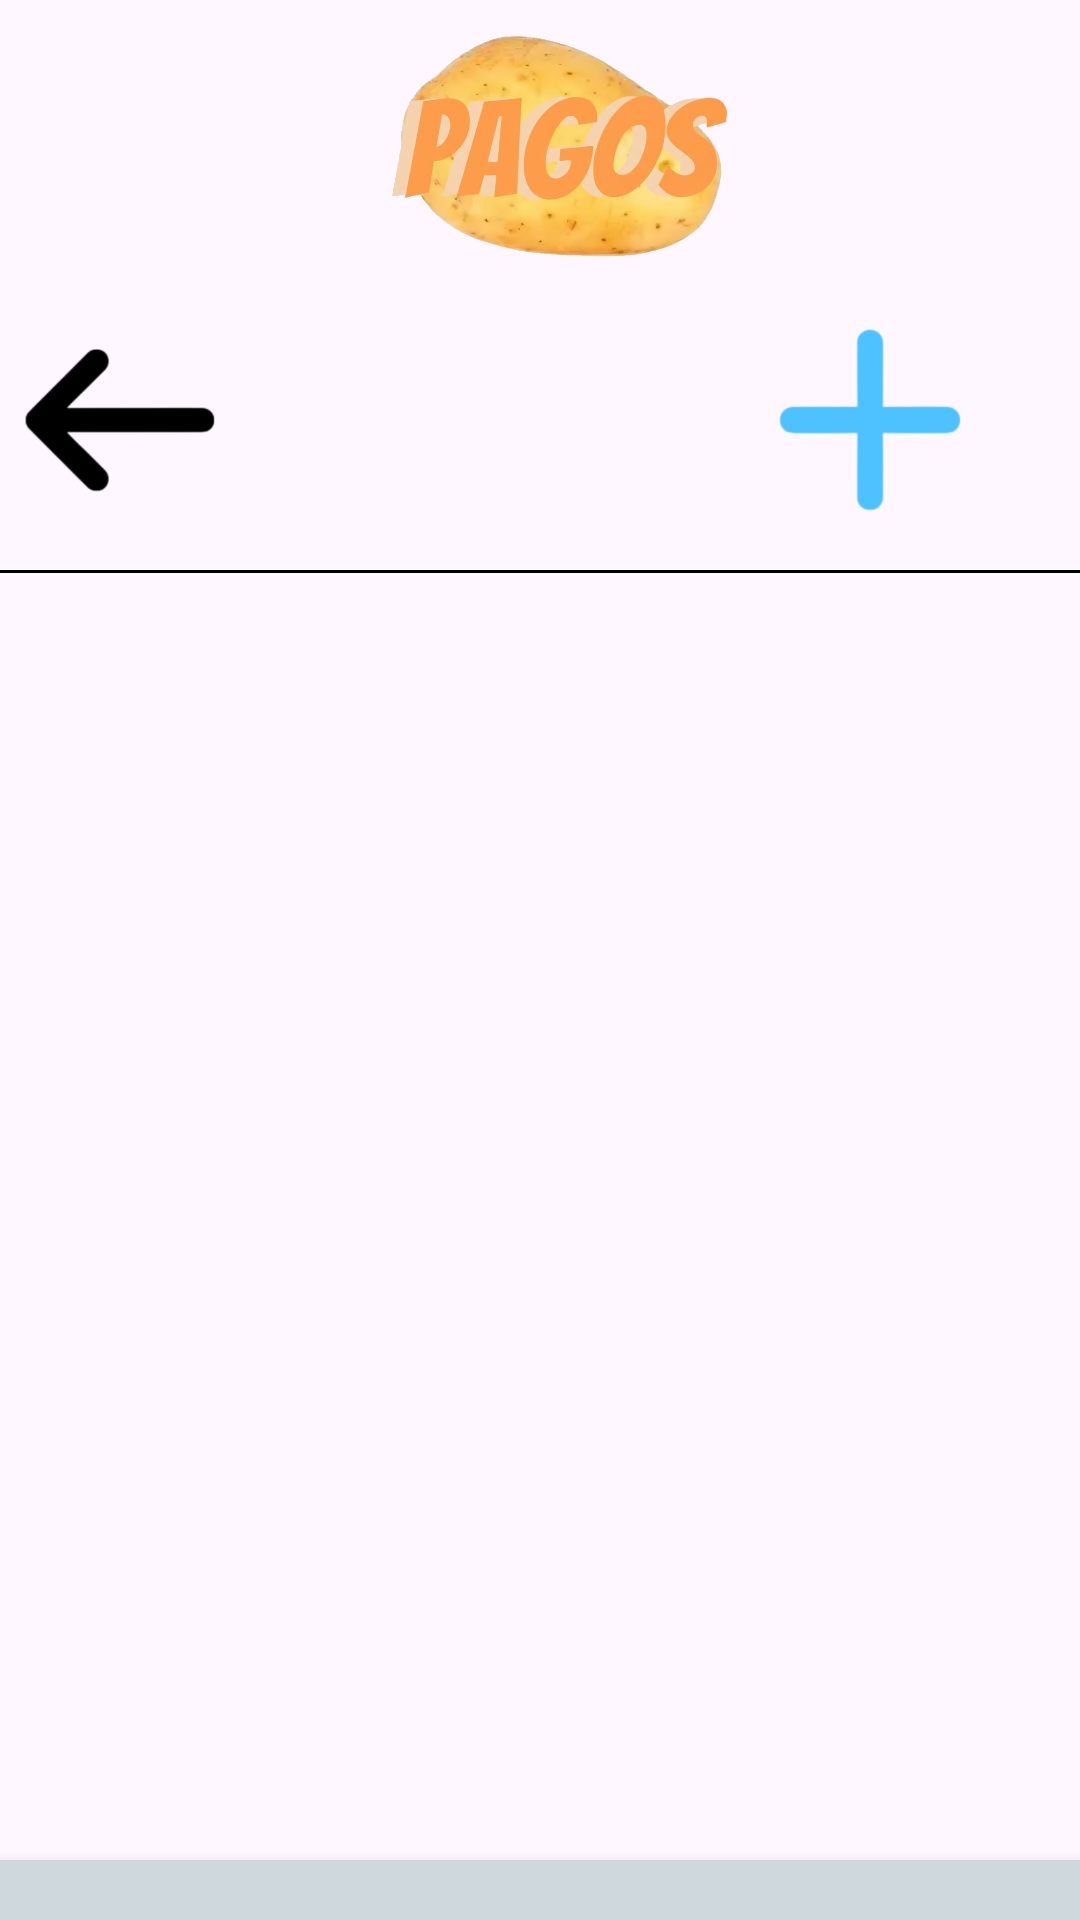

Where to tap for icons on this 1080w x 1920h app screen, as [x,y]:
flecha: [120,420]
mas: [870,420]
papapagos: [559,146]
